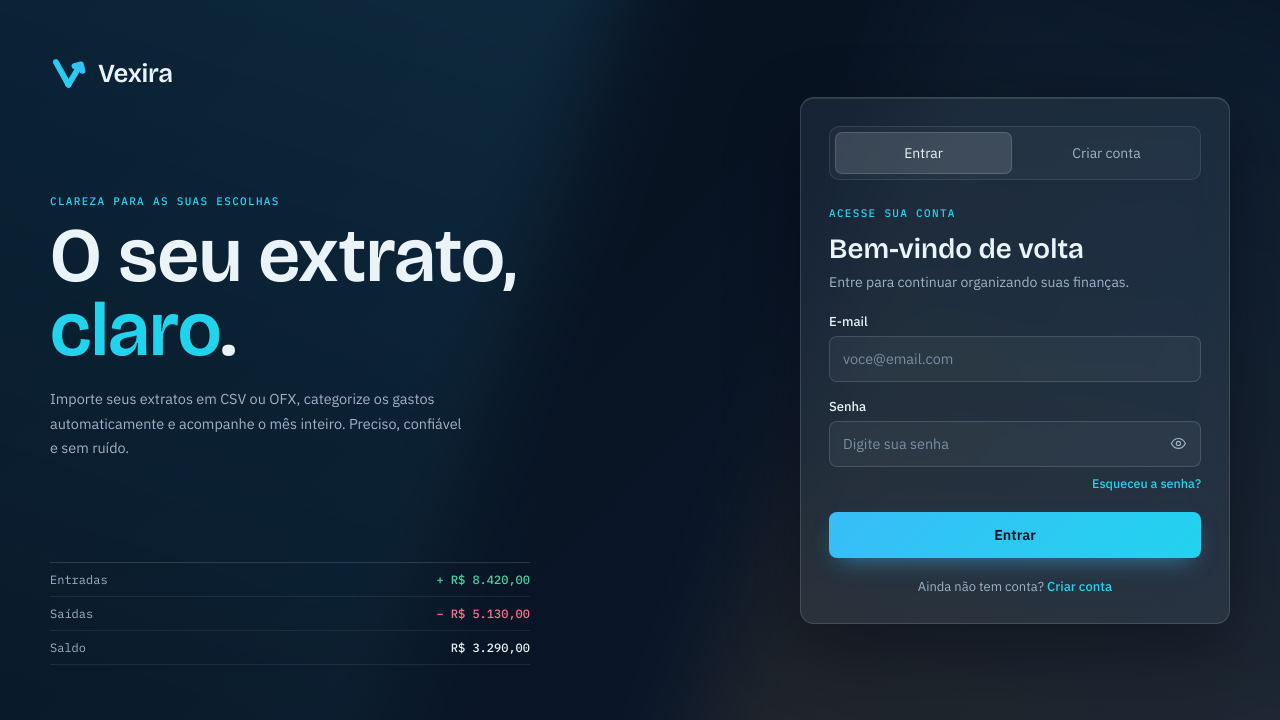
Test: AuthPage › mostrar senha (olhinho) › o olhinho mostra e esconde a senha digitada
In the password field labelled "Senha": {"x": 1015, "y": 444} top-left (829, 420), bottom-right (1201, 466), type "minha-senha"
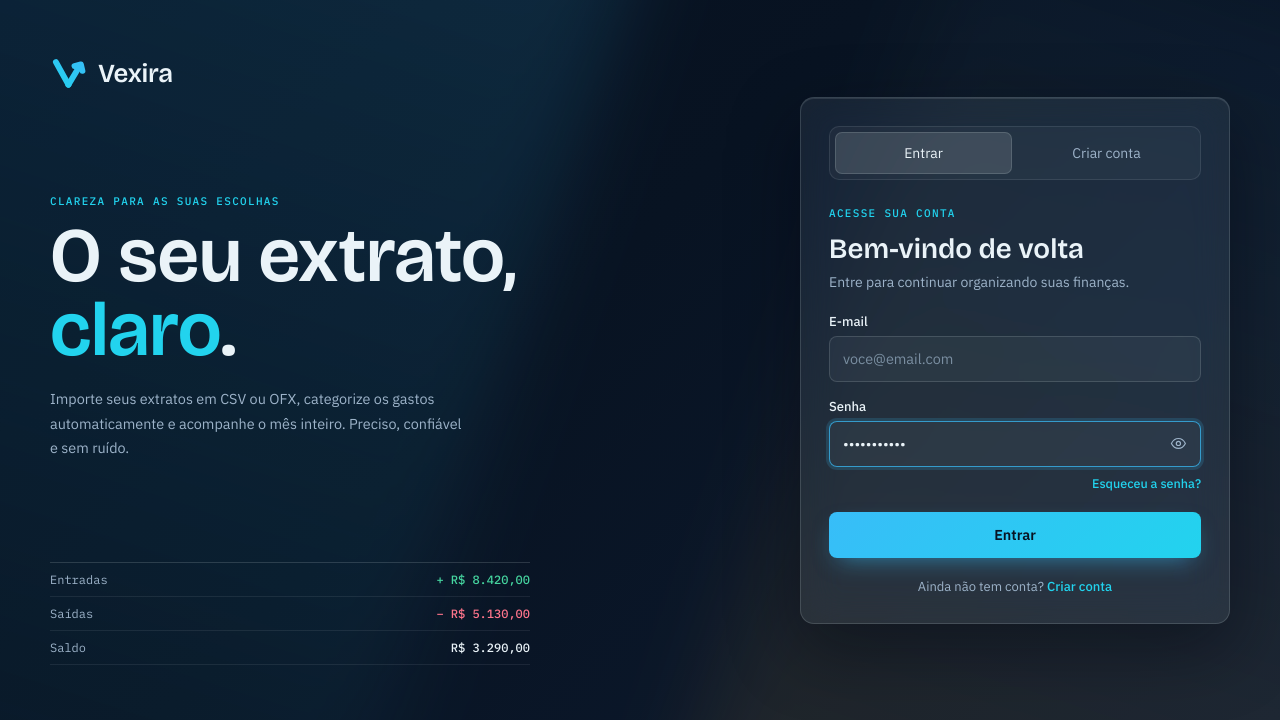
Click the button named "Mostrar senha": {"x": 1178, "y": 444} top-left (1160, 426), bottom-right (1196, 462)
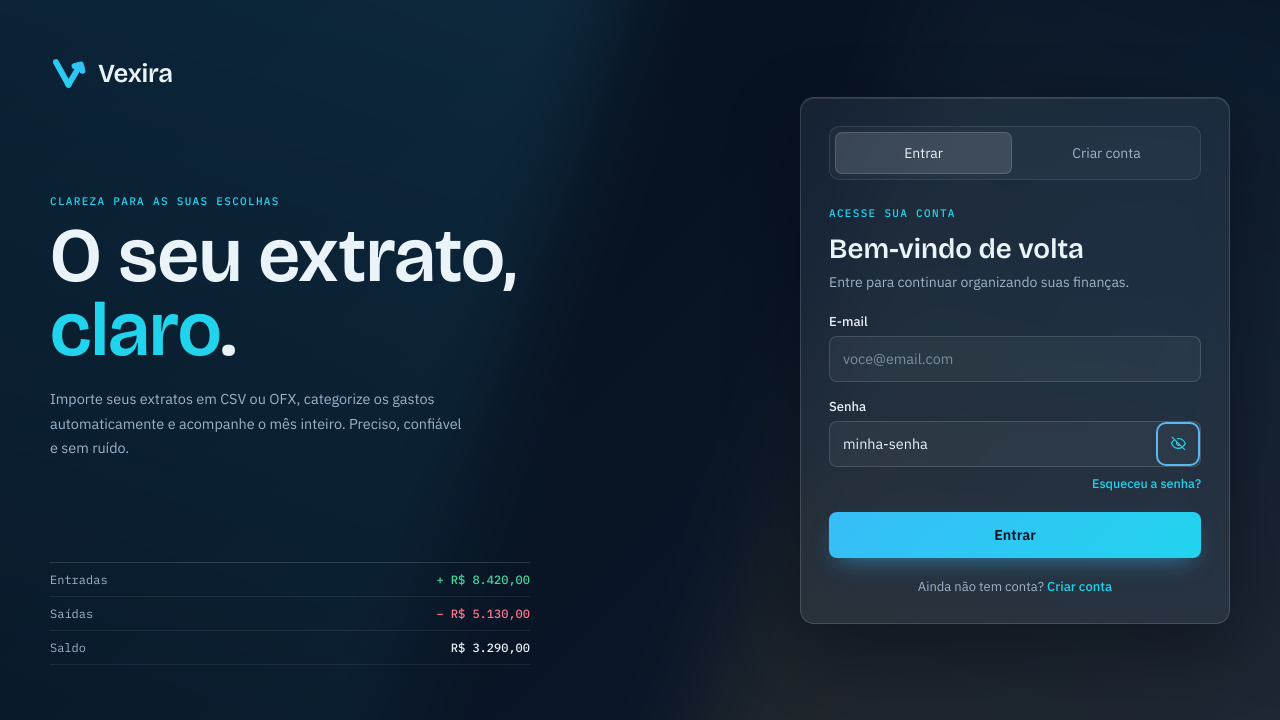
Now the field labelled "Senha" shows its text, box top-left (829, 420), bottom-right (1201, 466)
Click the button named "Mostrar senha": {"x": 1178, "y": 444} top-left (1160, 426), bottom-right (1196, 462)
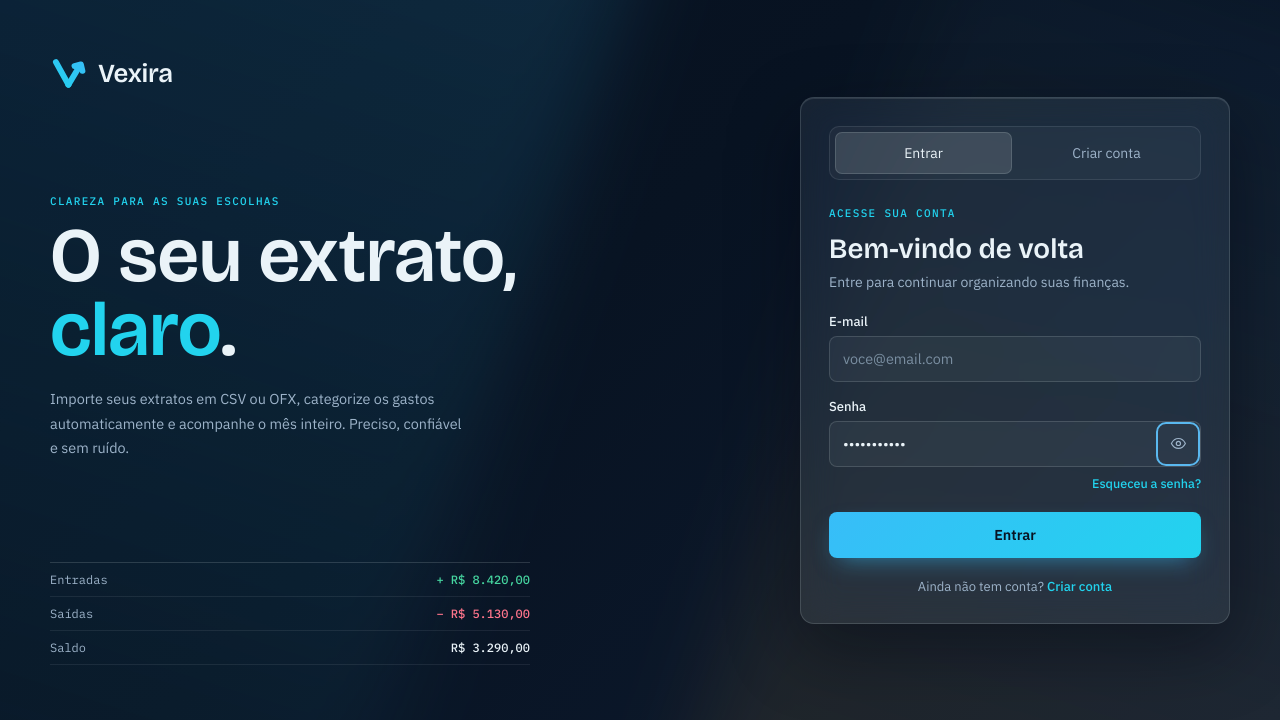
Now the password field labelled "Senha" hides its text, box top-left (829, 420), bottom-right (1201, 466)
